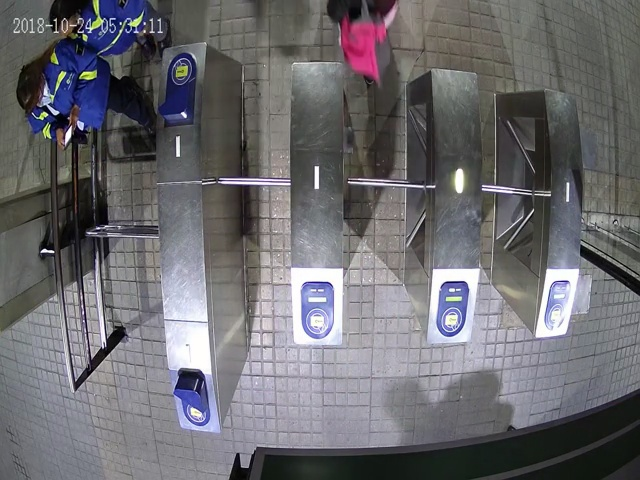Chaleco_azul: (15, 37, 157, 144), (48, 1, 170, 58)
